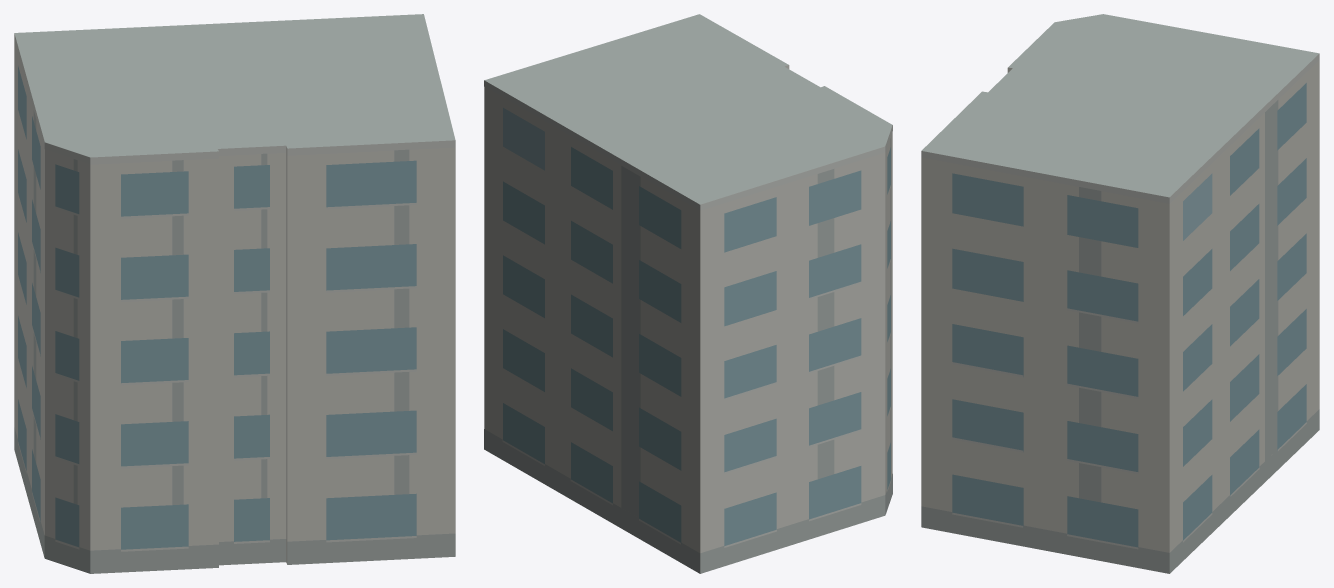
File: survey-upis-32530236.glb
The picture shows the model from 3 angles, left to right: view 1: azimuth 30°, elevation 25°; view 2: azimuth 150°, elevation 25°; view 3: azimuth 270°, elevation 25°; orthographic projection. The views are drawn at different scales.
Parts seen in each view (by area): view 1: survey-upis-32530236.tmp; view 2: survey-upis-32530236.tmp; view 3: survey-upis-32530236.tmp.
Part boxes in pixels (x1,y1,x2,y2): survey-upis-32530236.tmp: (14,14,455,573); survey-upis-32530236.tmp: (484,14,892,573); survey-upis-32530236.tmp: (921,14,1319,573).
Bounding box in the file's own units: 15.06 × 14.4 × 13.82.
